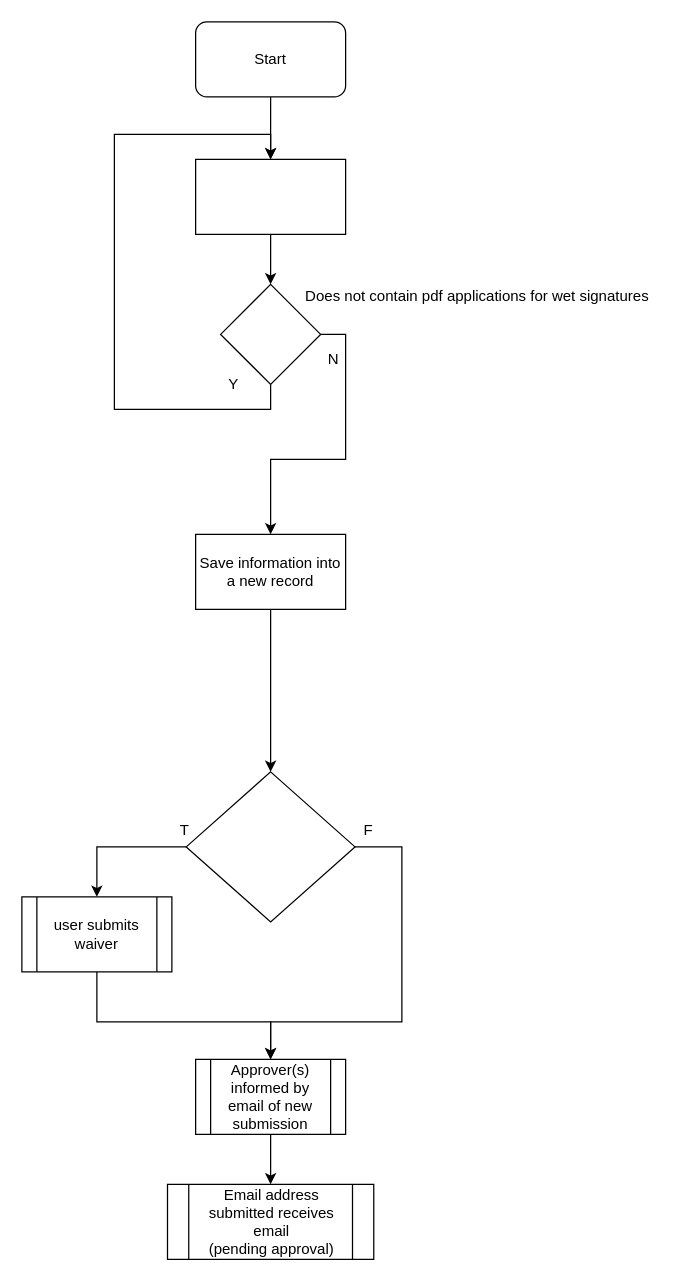
Image size: 686x1281. Some labels were removed from this diagram. Here are the shapes that lost their labels. From the top down, the box of each, then its label:
(194, 158, 346, 234): User hits submit
(219, 283, 321, 384): information == invalid
(185, 771, 355, 922): uploadWaiverNow == true
